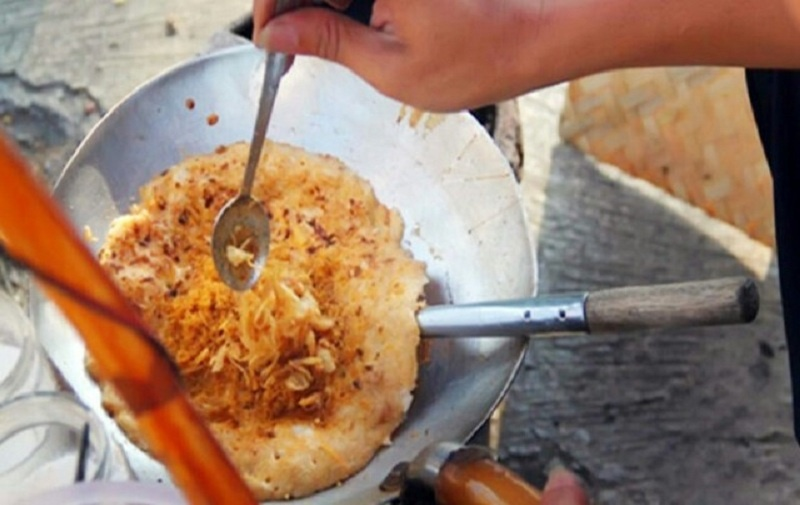kerak_telor: (104, 133, 421, 499)
